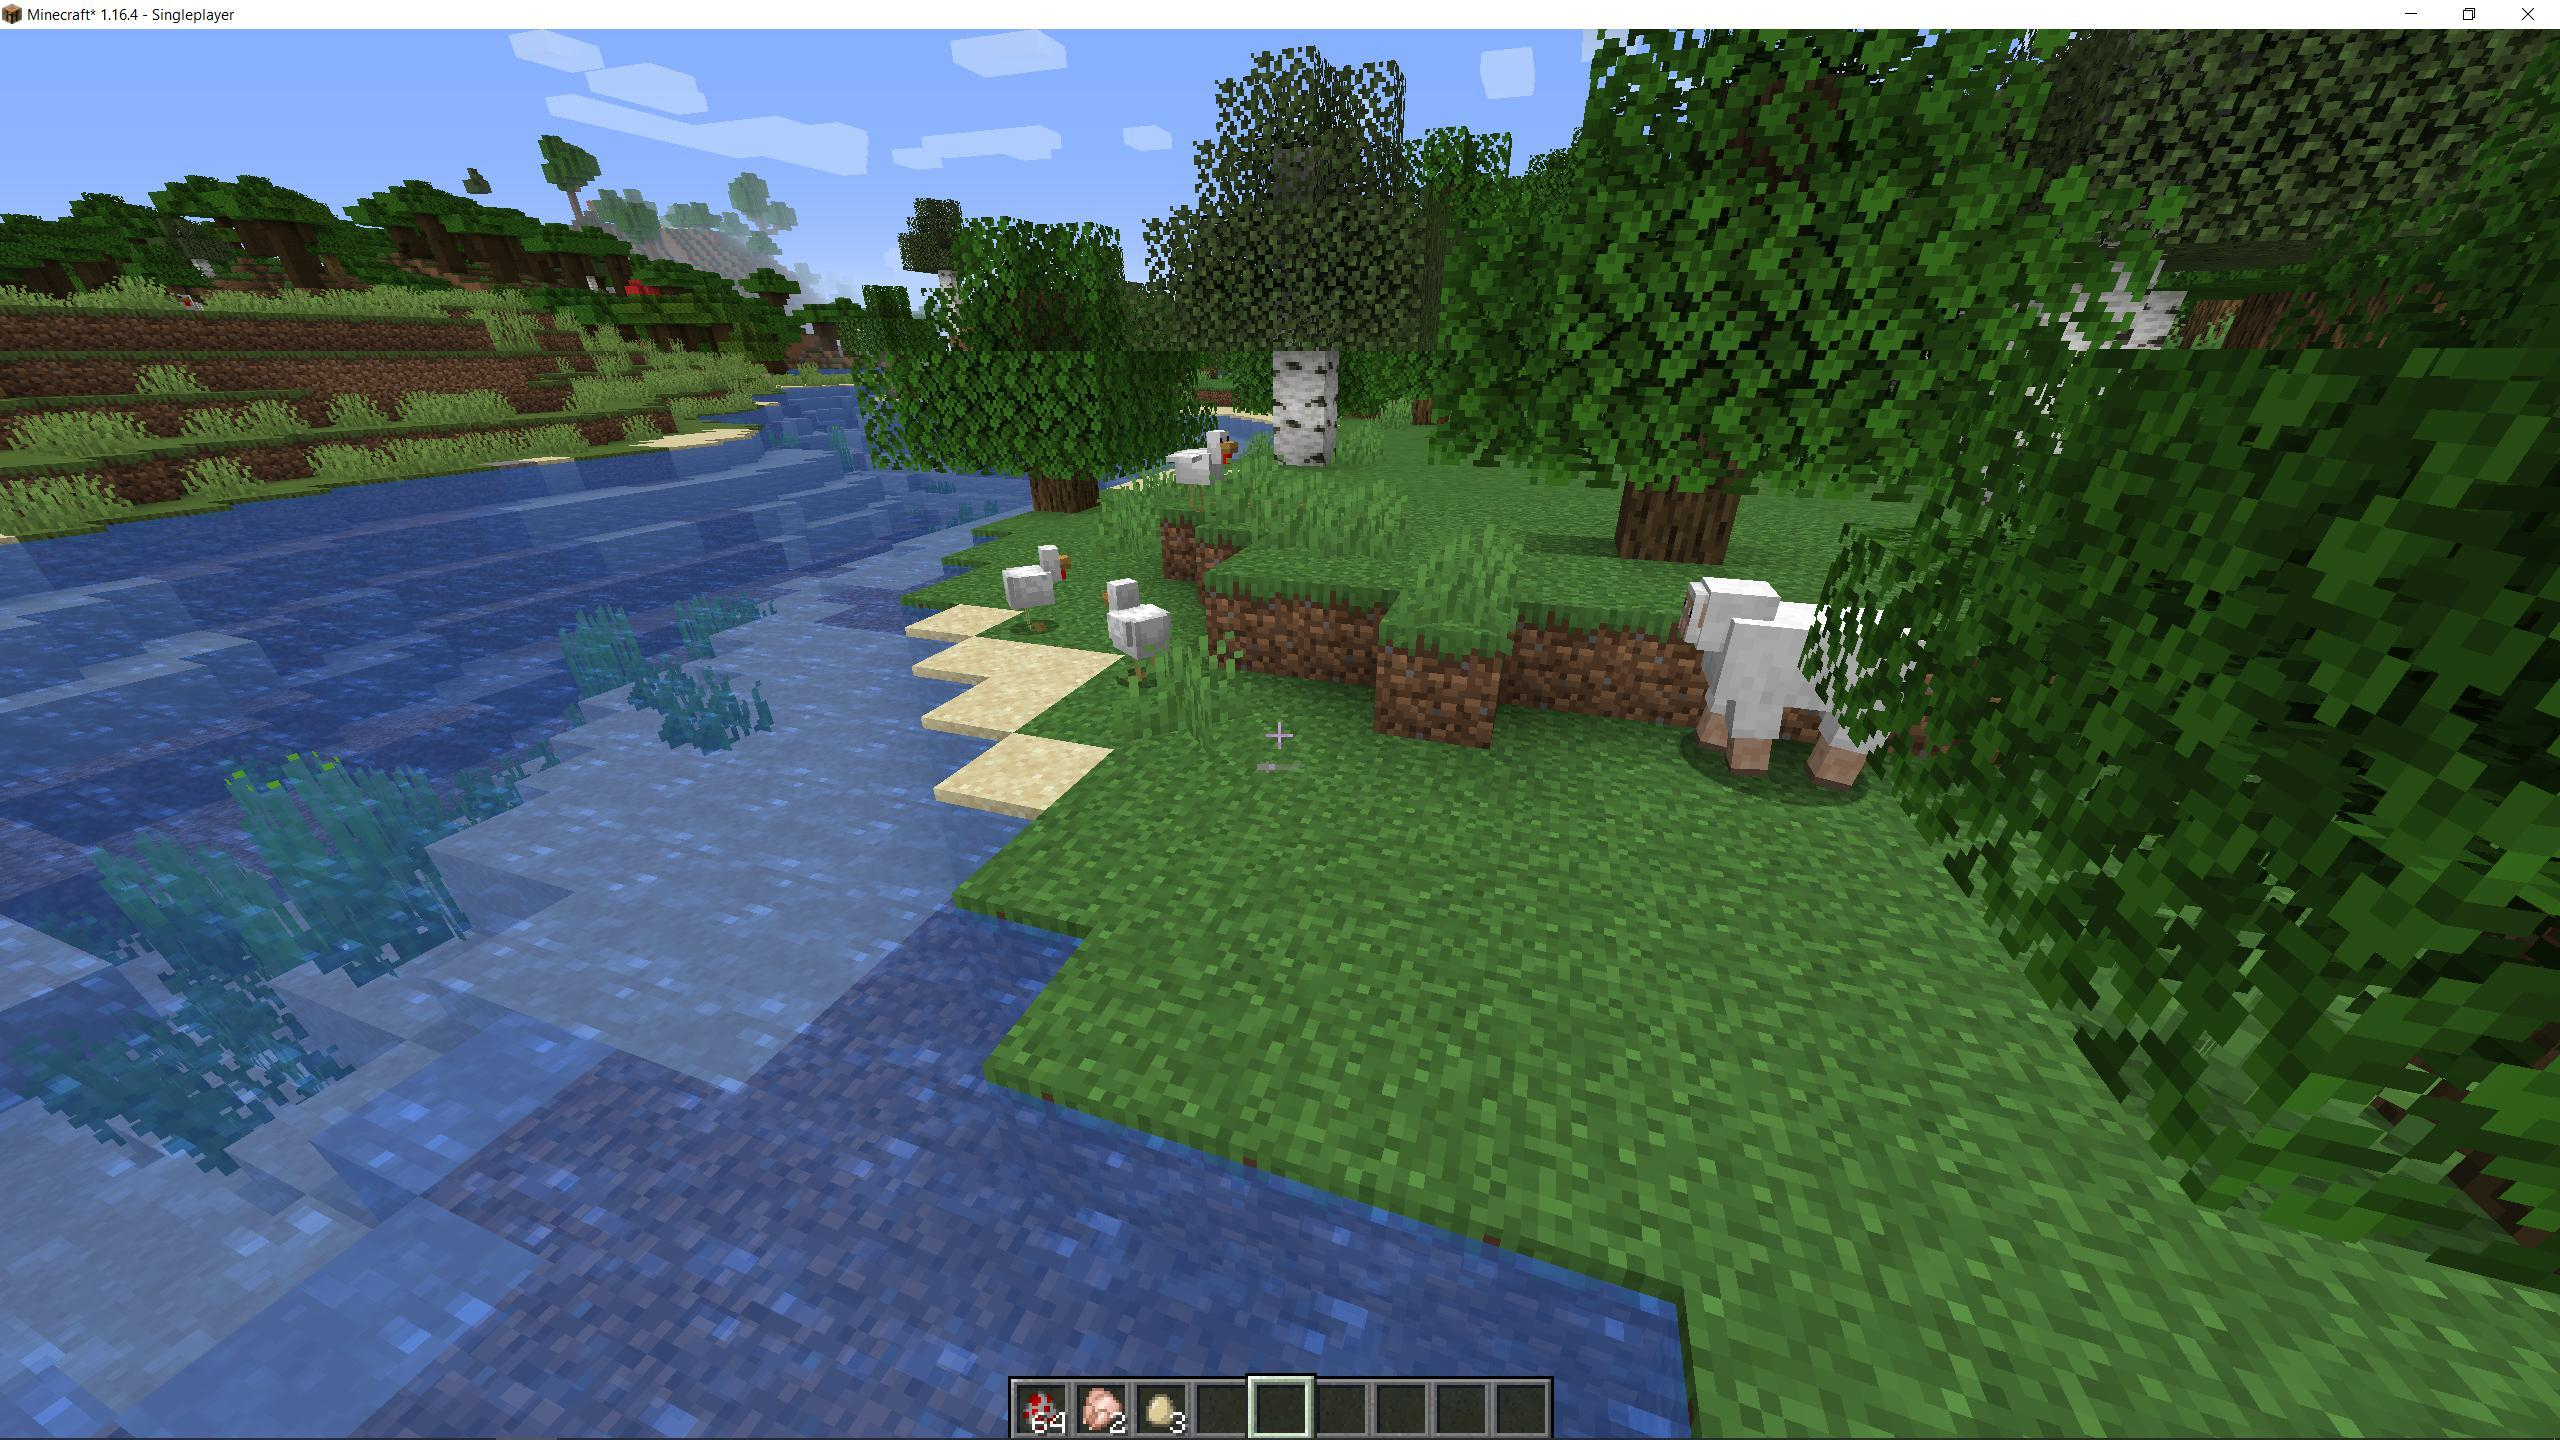chicken: (1097, 571, 1176, 684), (999, 542, 1071, 635), (1166, 424, 1238, 505)
sheep: (1672, 573, 1946, 789)
